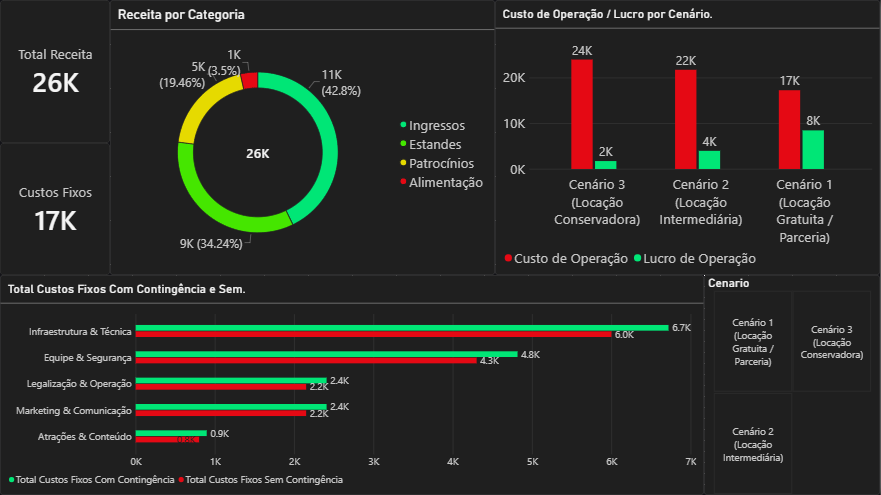

This screenshot's page, from the dashboard's own definition file:
{"tool":"powerbi","page":{"name":"Page 1","canvas":[1920,1080],"ordinal":0},"visuals":[{"type":"cardVisual","fields":{"Data":["Receitas.Total Receita"]},"box":[0,0,240,312],"z":0},{"type":"cardVisual","fields":{"Data":["Custos_Fixos.Total Custos Fixos"]},"box":[0,312,240,288],"z":1000},{"type":"donutChart","title":"Receita por Categoria","fields":{"Category":["Receitas.Categoria"],"Y":["Sum(Receitas.Receita_Total)"]},"box":[240,0,840,600],"z":2000},{"type":"clusteredBarChart","title":"Total Custos Fixos Com Contingência e Sem.","fields":{"Category":["Custos_Fixos.Tipo"],"Y":["Custos_Fixos.Total Custos Fixos","Sum(Custos_Fixos.Valor_Base)"]},"box":[0,600,1536,480],"z":3000},{"type":"clusteredColumnChart","title":"Custo de Operação / Lucro por Cenário.","fields":{"Category":["Cenarios_Locacao.Cenario"],"Y":["Sum(Cenarios_Locacao.Custo_Total_Evento (R$))","Sum(Cenarios_Locacao.Resultado_Operacional (R$))"]},"box":[1080,0,840,600],"z":4000},{"type":"slicer","fields":{"Values":["Cenarios_Locacao.Cenario"]},"box":[1536,600,384,480],"z":4001}]}

Visuals, with their boxes in screenshot pixels (x1, y1, x2, y2), scaled from the page's 1920x1080 canvas onto the 881x495 screenshot:
cardVisual - Receitas.Total Receita: pyautogui.locateOnScreen(0, 0, 110, 143)
cardVisual - Custos_Fixos.Total Custos Fixos: pyautogui.locateOnScreen(0, 143, 110, 275)
"Receita por Categoria" donutChart: pyautogui.locateOnScreen(110, 0, 496, 275)
"Total Custos Fixos Com Contingência e Sem." clusteredBarChart: pyautogui.locateOnScreen(0, 275, 705, 494)
"Custo de Operação / Lucro por Cenário." clusteredColumnChart: pyautogui.locateOnScreen(496, 0, 880, 275)
slicer - Cenarios_Locacao.Cenario: pyautogui.locateOnScreen(705, 275, 880, 494)
